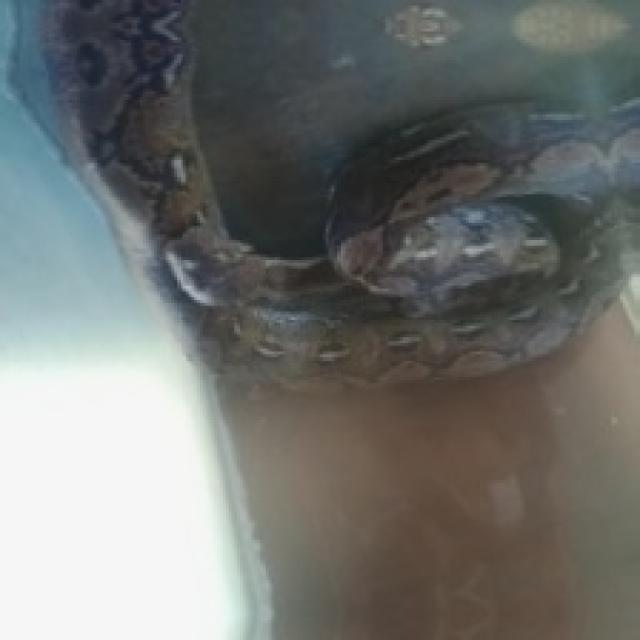reticulated python: (43, 0, 637, 386)
